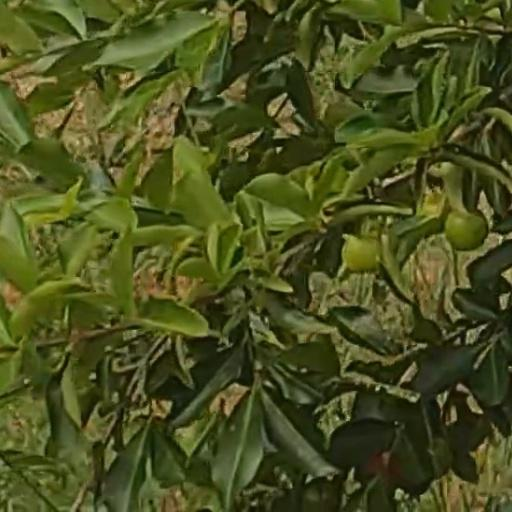acerola: (447, 210, 489, 252), (340, 240, 383, 274)
